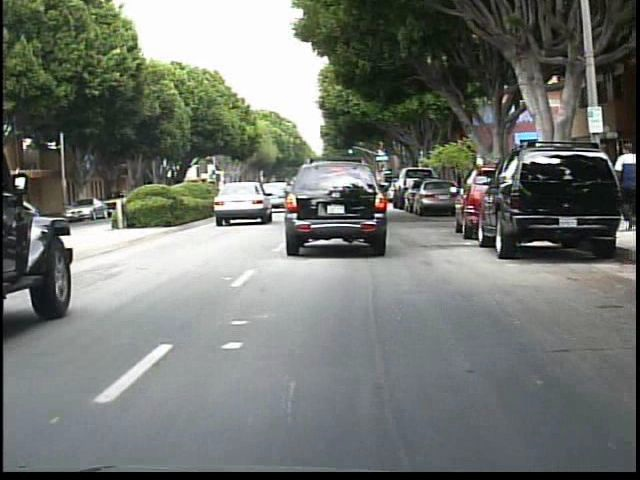person: (611, 138, 639, 237)
